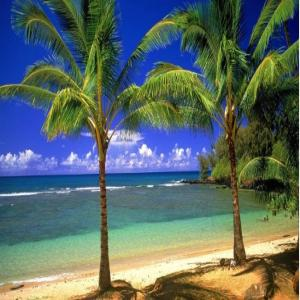palm tree: (0, 0, 203, 293), (130, 0, 296, 265)
